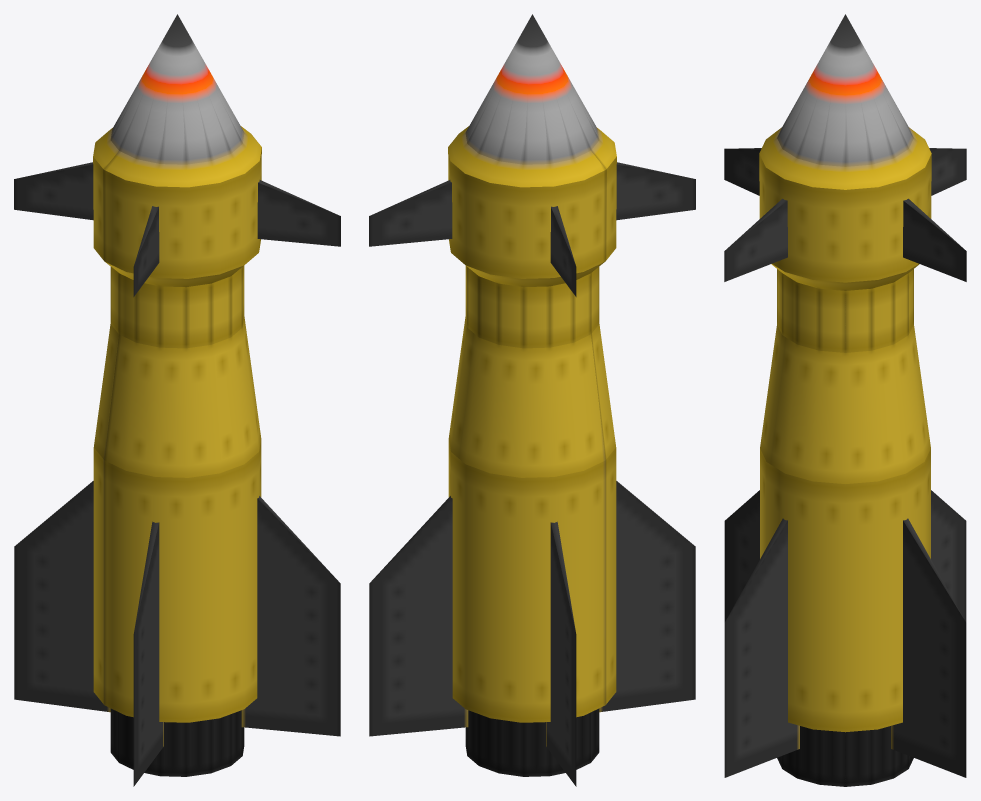
The model's file is missile_incendiary_strong.obj.
The picture shows the model from 3 angles, left to right: view 1: azimuth 30°, elevation 25°; view 2: azimuth 150°, elevation 25°; view 3: azimuth 270°, elevation 25°; orthographic projection.
Parts seen in each view (by area): view 1: missile_incendiary_strong; view 2: missile_incendiary_strong; view 3: missile_incendiary_strong.
Boxes of the visible parts, x1,y1,x2,y2 form: missile_incendiary_strong: [14, 14, 340, 786]; missile_incendiary_strong: [369, 14, 695, 786]; missile_incendiary_strong: [724, 14, 966, 786].
Size of the model in its own units: 1.77 by 6 by 1.77.
